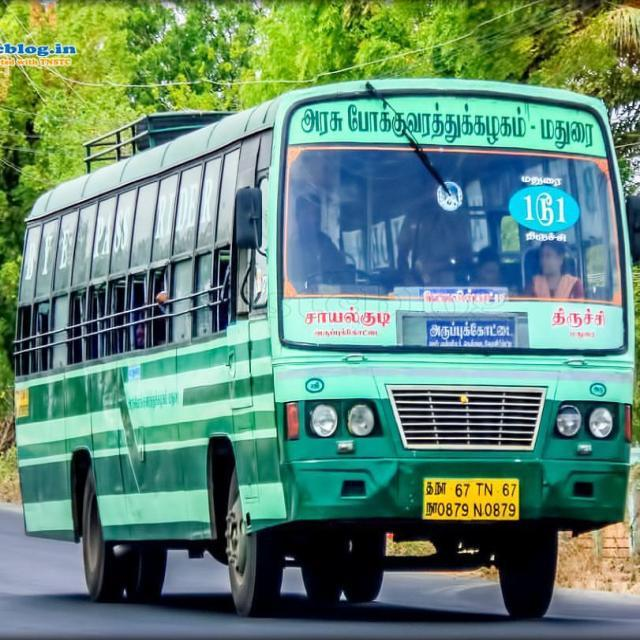Bus: (11, 78, 639, 622)
